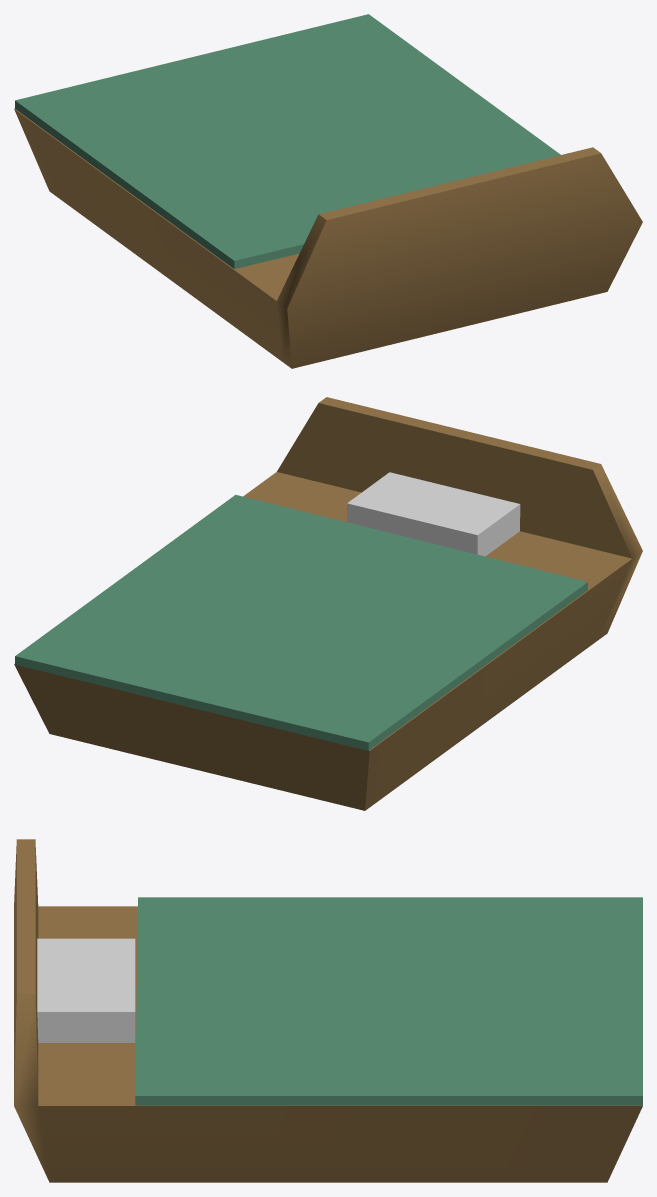
File: bed.fbx
3 views of the same model, one above another, from view 1: azimuth 30°, elevation 25°; view 2: azimuth 150°, elevation 25°; view 3: azimuth 270°, elevation 25° (orthographic). The views are drawn at different scales.
Parts seen in each view (by area): view 1: pCube4; view 2: pCube4; view 3: pCube4.
Boxes of the visible parts, <box> form: pCube4: <box>14,14,642,368</box>; pCube4: <box>14,397,642,810</box>; pCube4: <box>14,839,642,1182</box>.
Size of the model in its own units: 284 by 117 by 377.
